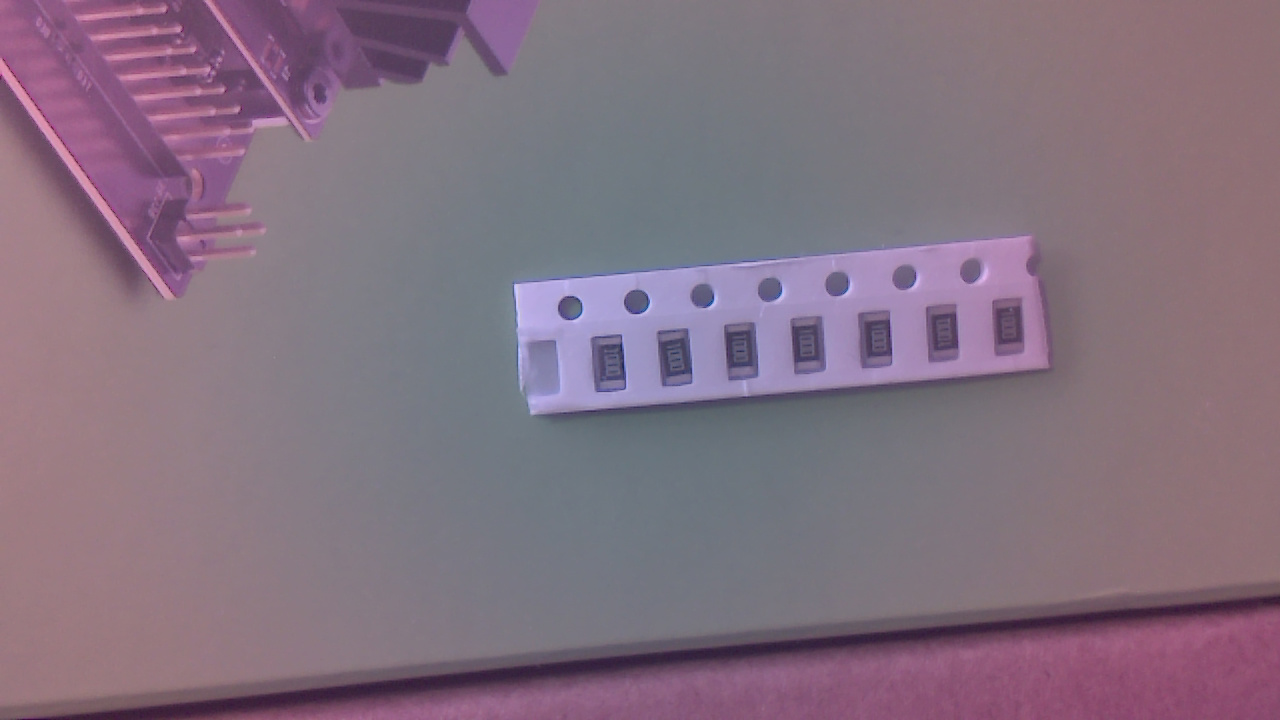Resistor: (662, 332, 700, 391), (595, 338, 632, 398), (929, 308, 965, 368), (996, 302, 1031, 362), (864, 314, 898, 375), (729, 325, 763, 386), (795, 323, 830, 382)
